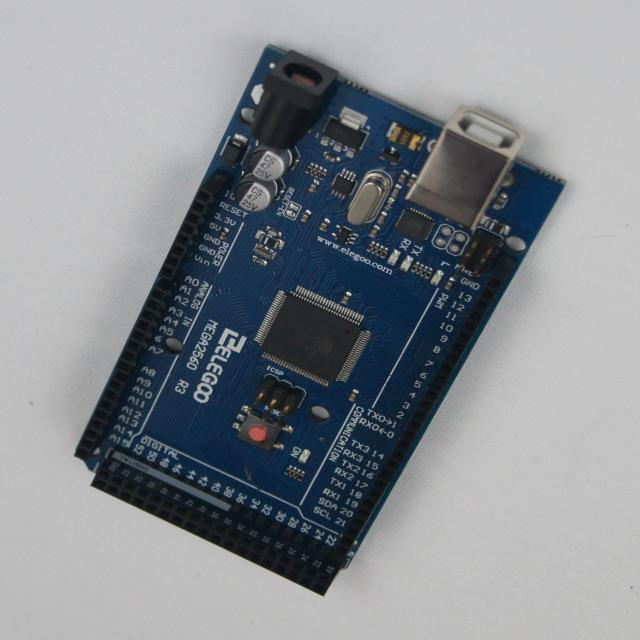Arduino Mega 2560 -Blue-: (76, 47, 564, 595)
